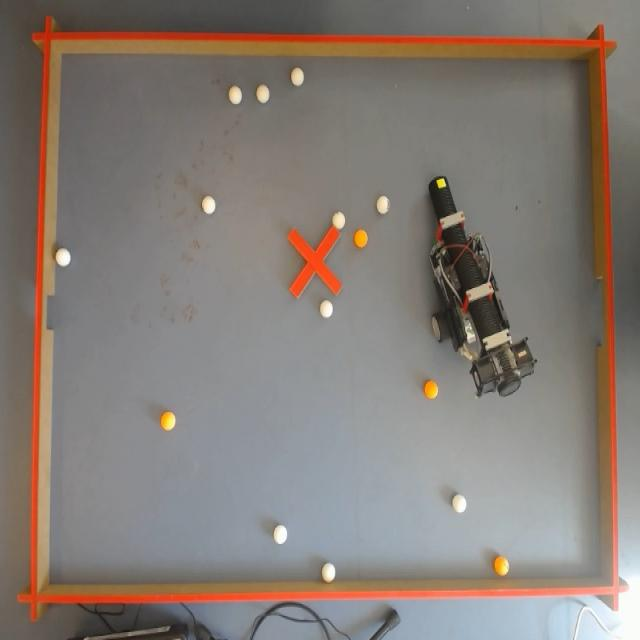orange: (494, 554, 512, 575), (160, 411, 176, 432), (354, 230, 370, 248), (425, 380, 439, 400)
robot: (428, 187, 532, 402)
robot-front: (429, 176, 450, 206)
white: (56, 248, 71, 269), (321, 563, 335, 585), (228, 84, 242, 105), (272, 523, 286, 544), (452, 494, 466, 514), (292, 66, 304, 87), (377, 194, 389, 215), (258, 84, 270, 105), (319, 299, 332, 318), (202, 196, 214, 215), (333, 212, 345, 230)
